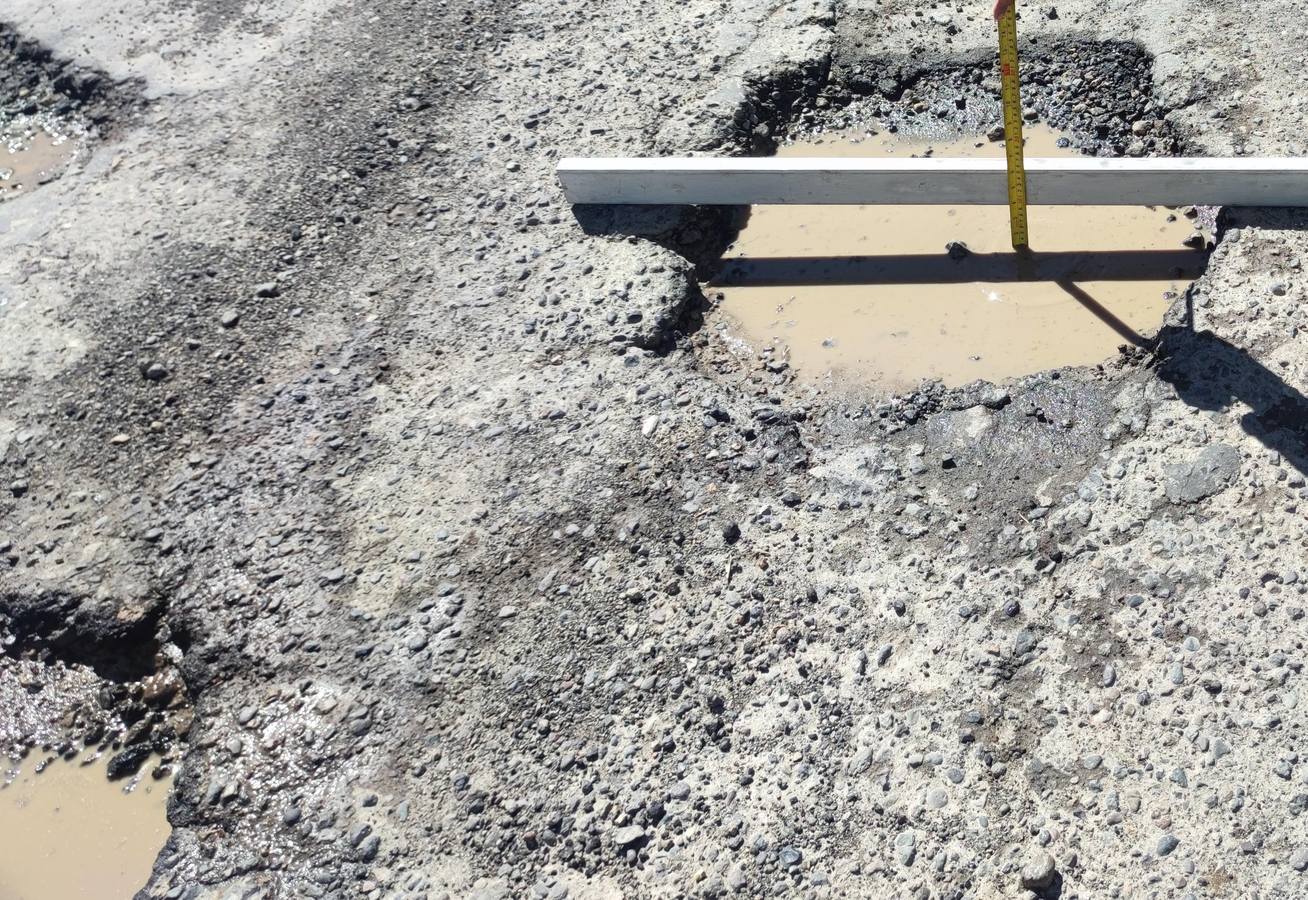BACHE: (642, 204, 1225, 418), (0, 595, 196, 900), (726, 39, 1210, 158), (0, 24, 130, 210)
